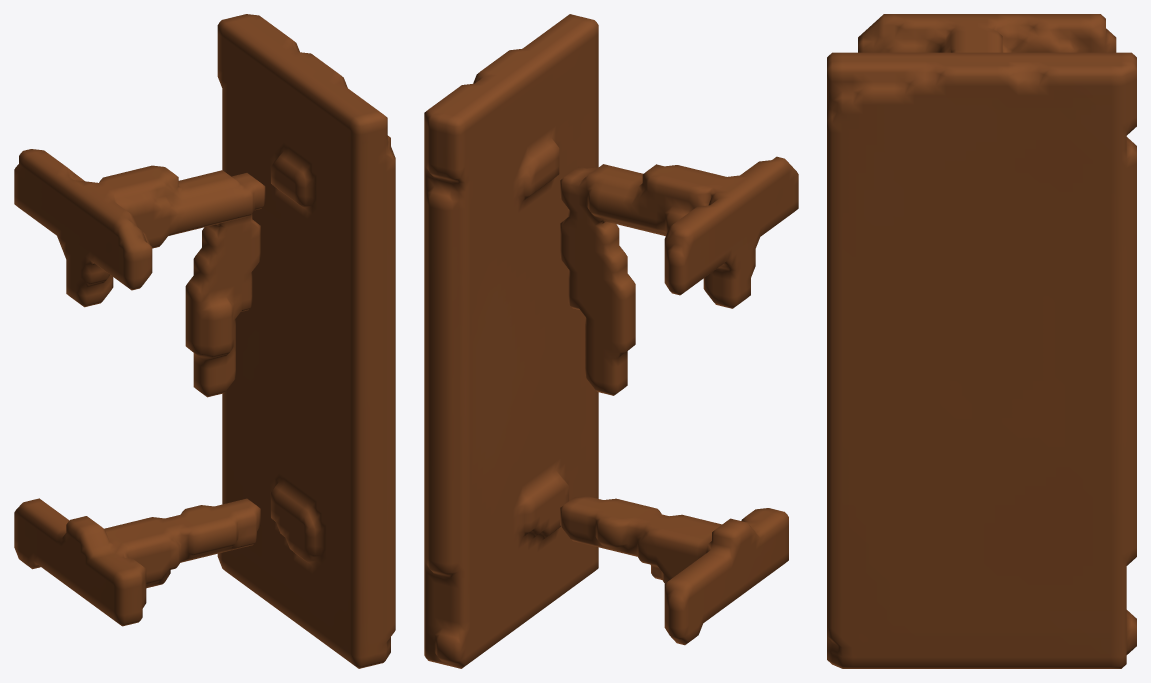
File: Rectangular wooden table with two legs, dark brown.glb
3 renders of one model, left to right at view 1: azimuth 30°, elevation 25°; view 2: azimuth 150°, elevation 25°; view 3: azimuth 270°, elevation 25°, orthographic. The views are drawn at different scales.
Visible parts, largest first — view 1: Rectangular wooden table with two legs, dark brown; view 2: Rectangular wooden table with two legs, dark brown; view 3: Rectangular wooden table with two legs, dark brown.
Boxes of the visible parts, x1,y1,x2,y2 form: Rectangular wooden table with two legs, dark brown: (14,14,395,668); Rectangular wooden table with two legs, dark brown: (424,14,798,668); Rectangular wooden table with two legs, dark brown: (827,14,1136,668).
Bounding box in the file's own units: 31 × 64 × 30.
